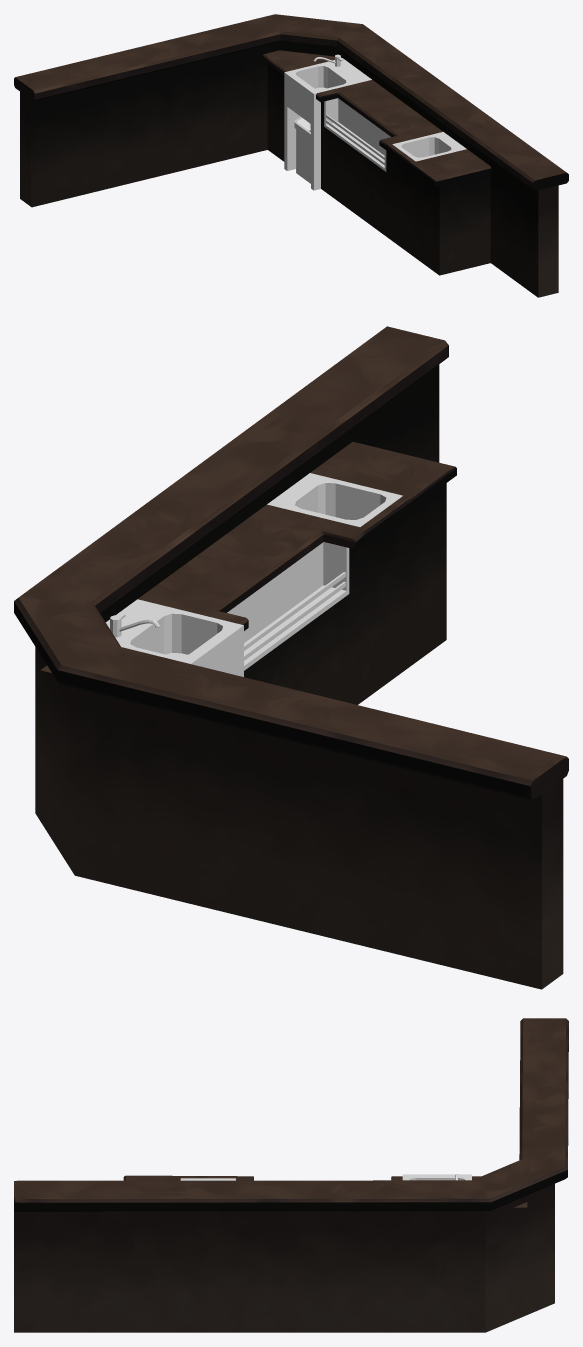
File: Counter_002.fbx
The picture shows the model from 3 angles, top to bottom: view 1: azimuth 30°, elevation 25°; view 2: azimuth 150°, elevation 25°; view 3: azimuth 270°, elevation 25°; orthographic projection. The views are drawn at different scales.
Visible parts, largest first — view 1: Cube.002, Cube.030, Cube.031, Circle.001; view 2: Cube.002, Cube.031, Cube.030, Circle.001; view 3: Cube.002, Cube.030.
Part boxes in pixels (<box>): Cube.002: <box>14,14,568,297</box>; Cube.030: <box>284,54,371,190</box>; Cube.031: <box>324,98,390,171</box>; Circle.001: <box>392,132,466,161</box>; Cube.002: <box>14,326,568,989</box>; Cube.031: <box>227,542,349,670</box>; Cube.030: <box>106,599,243,676</box>; Circle.001: <box>267,473,402,526</box>; Cube.002: <box>14,1018,568,1332</box>; Cube.030: <box>402,1174,471,1180</box>.
Bounding box in the file's own units: 310 × 110 × 400.
